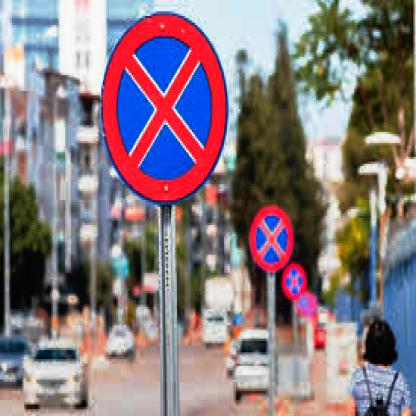No stopping: (98, 6, 225, 211), (246, 204, 290, 268), (281, 265, 308, 304)
